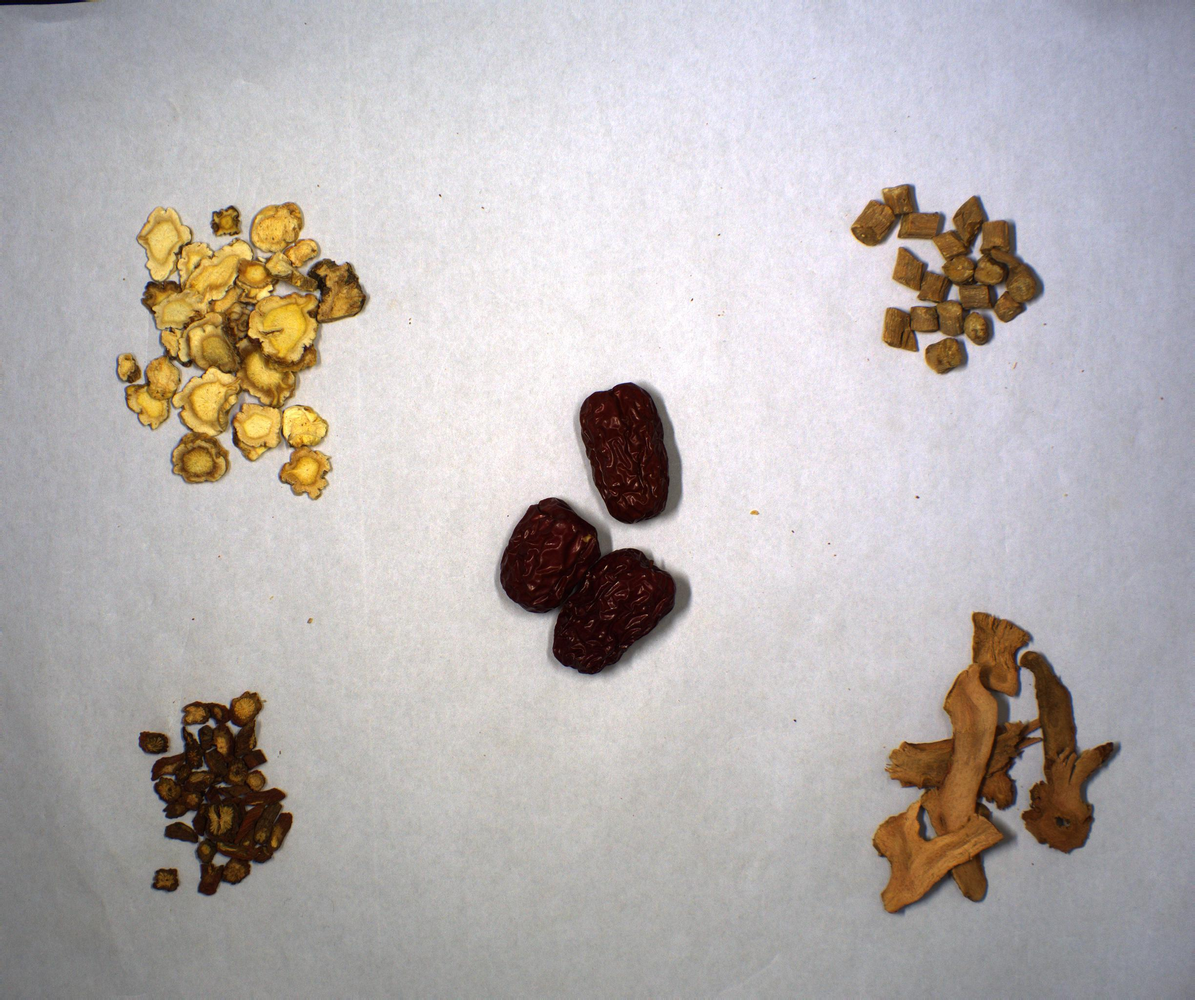danshen: (136, 688, 295, 901)
dazao: (495, 385, 694, 679)
gaoliangjiang: (869, 608, 1125, 918)
jiegeng: (112, 197, 372, 501)
niuxi: (852, 184, 1049, 375)
